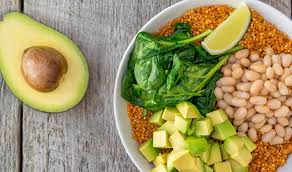aguacate: (2, 6, 93, 123)
